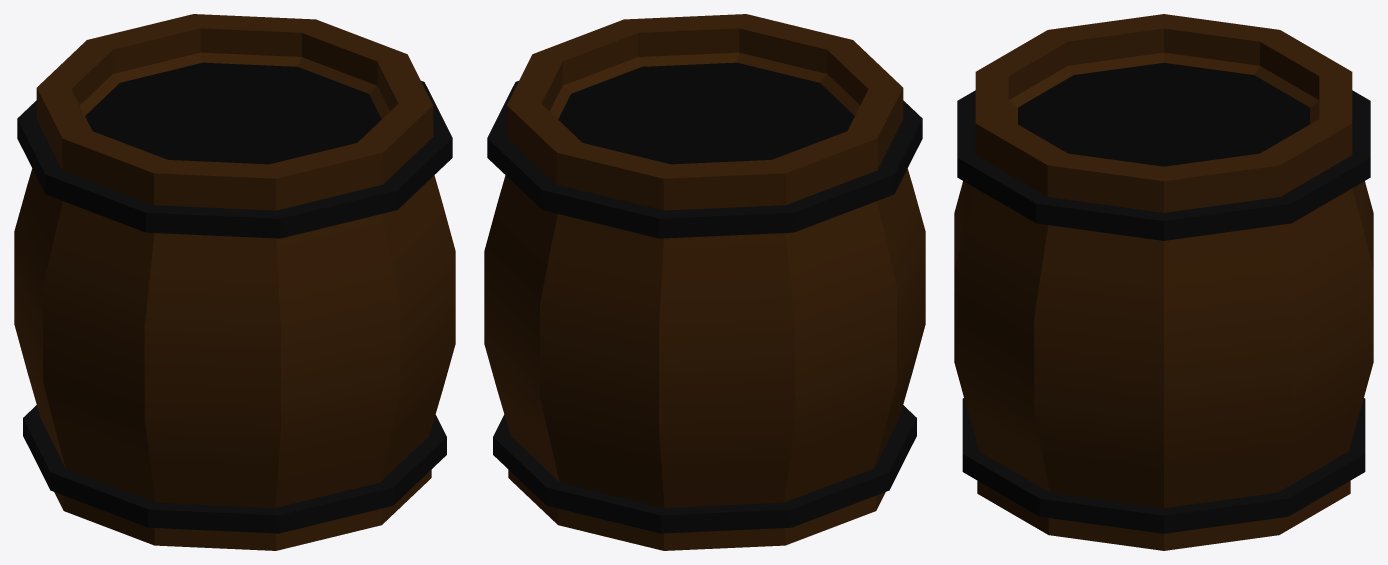
File: Barrel_Standin.fbx
3 views of the same model, side by side, from view 1: azimuth 30°, elevation 25°; view 2: azimuth 150°, elevation 25°; view 3: azimuth 270°, elevation 25° (orthographic).
Parts seen in each view (by area): view 1: pCylinder1; view 2: pCylinder1; view 3: pCylinder1.
Boxes of the visible parts, x1=… form: pCylinder1: x1=14, y1=14, x2=455, y2=550; pCylinder1: x1=484, y1=14, x2=925, y2=550; pCylinder1: x1=954, y1=14, x2=1373, y2=550.
Size of the model in its own units: 0.2244 by 0.2081 by 0.2134.
